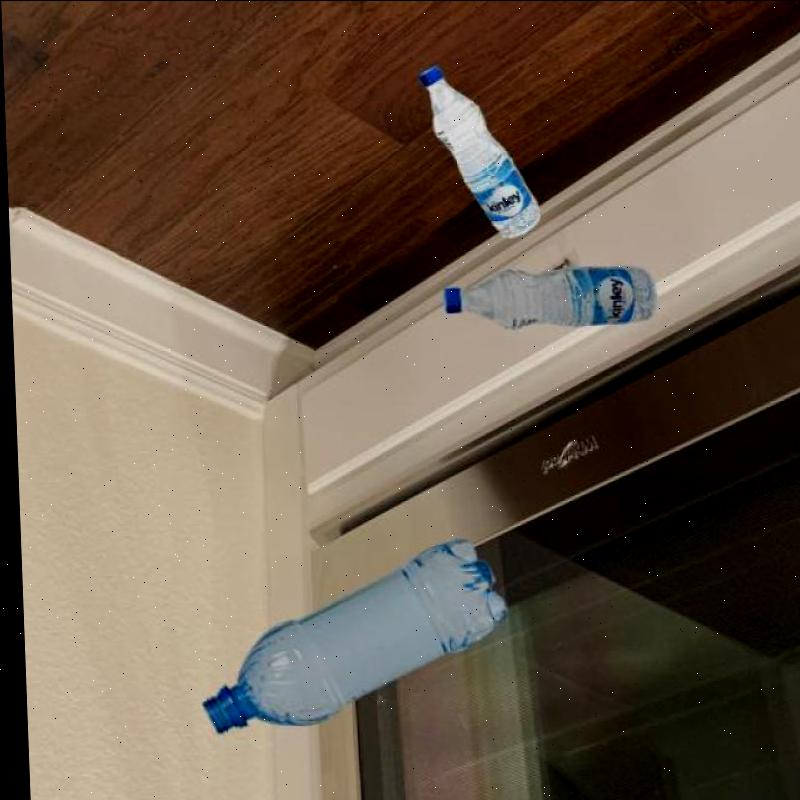botella: (193, 535, 507, 739), (418, 62, 541, 238), (438, 267, 656, 328)
